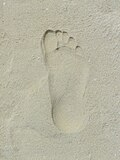human_footprint: (42, 30, 88, 132)
